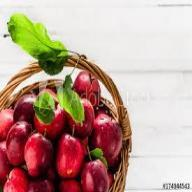apple: (88, 112, 122, 158), (35, 92, 66, 136), (71, 67, 104, 104), (5, 122, 36, 160), (76, 159, 114, 190), (55, 136, 84, 176), (68, 98, 96, 138), (26, 136, 52, 176), (12, 92, 38, 122), (4, 169, 28, 191)
